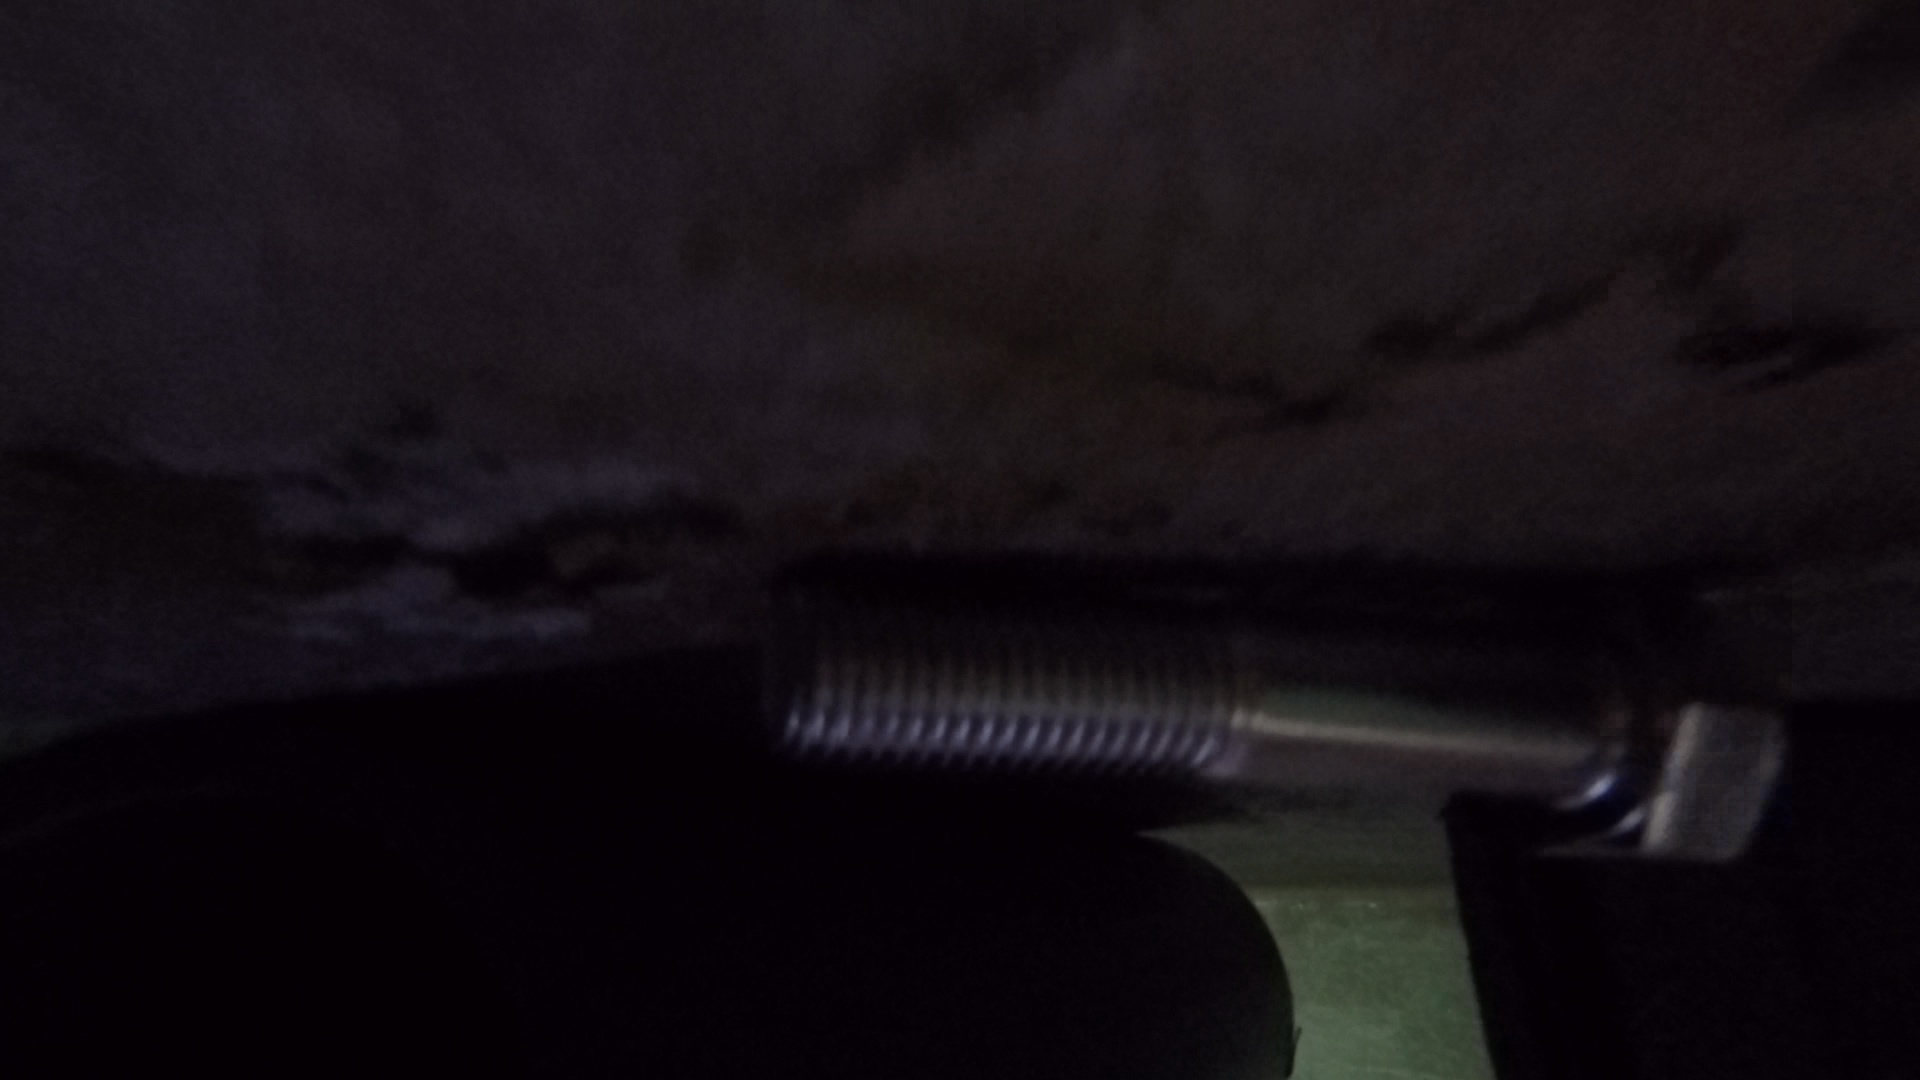bolt: (745, 553, 1792, 872)
pipe: (1021, 818, 1300, 1080)
